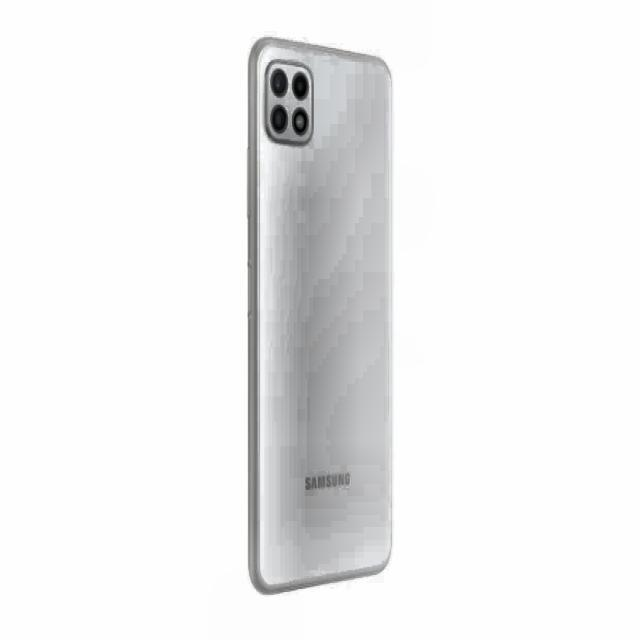Phone: (247, 37, 394, 595)
